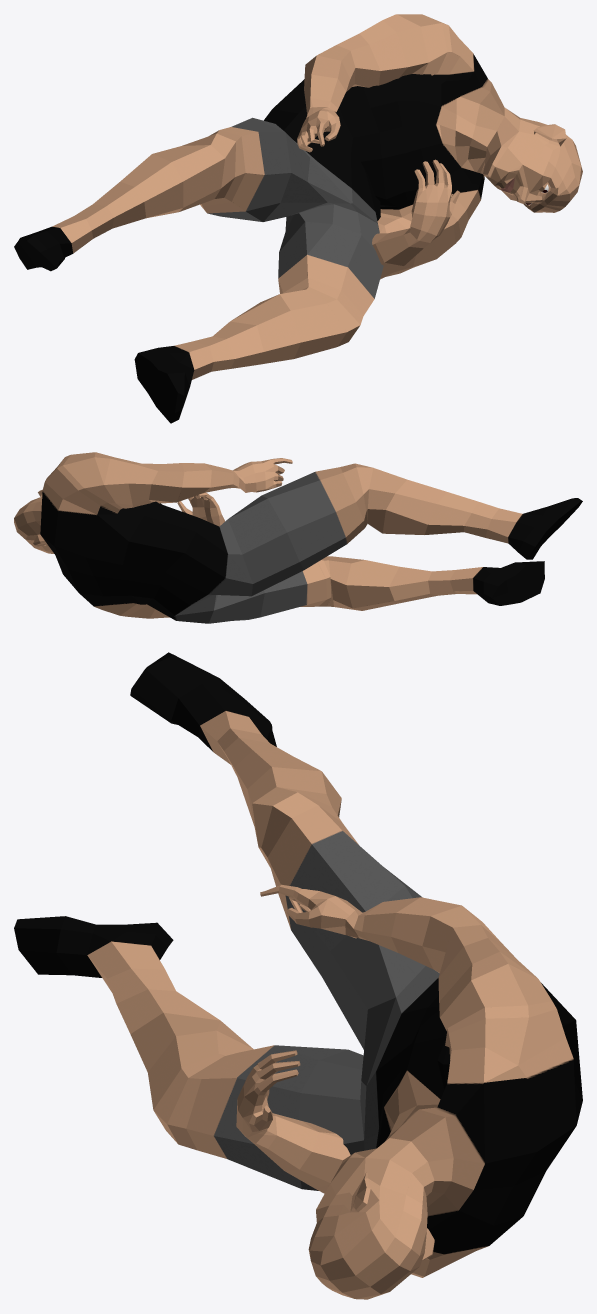
The model's file is PlayerDead(55).obj.
The picture shows the model from 3 angles, top to bottom: view 1: azimuth 30°, elevation 25°; view 2: azimuth 150°, elevation 25°; view 3: azimuth 270°, elevation 25°; orthographic projection. The views are drawn at different scales.
Parts seen in each view (by area): view 1: Plane002; view 2: Plane002; view 3: Plane002.
Boxes of the visible parts, left/top/right/bottom form: Plane002: left=14, top=14, right=582, bottom=423; Plane002: left=14, top=452, right=582, bottom=623; Plane002: left=14, top=652, right=582, bottom=1299.
Bounding box in the file's own units: 1672 × 566 × 915.
